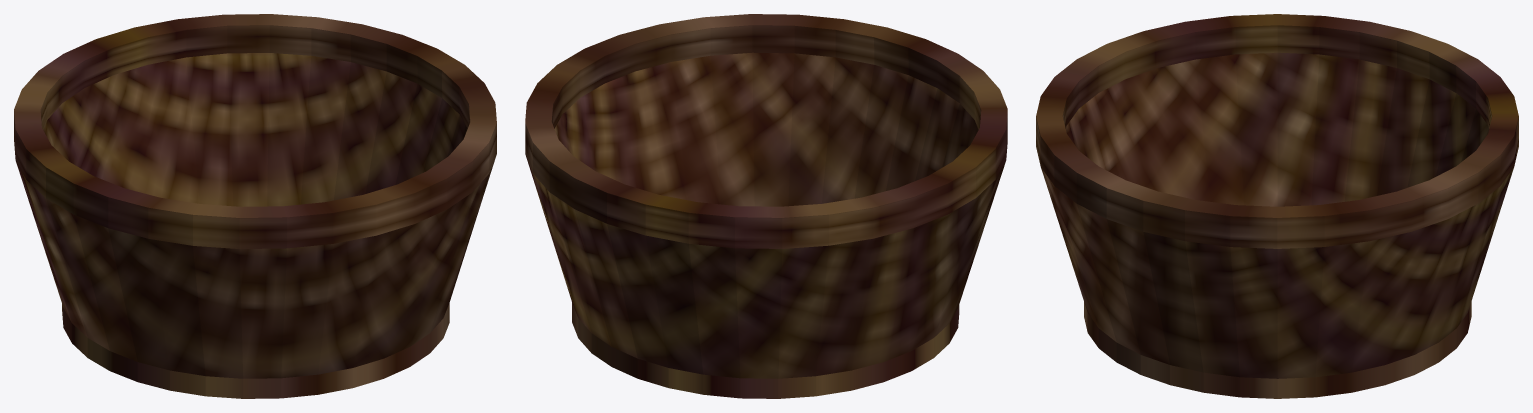
The model's file is basket.fbx.
3 renders of one model, left to right at view 1: azimuth 30°, elevation 25°; view 2: azimuth 150°, elevation 25°; view 3: azimuth 270°, elevation 25°, orthographic.
Visible parts, largest first — view 1: Cylinder; view 2: Cylinder; view 3: Cylinder.
Boxes of the visible parts, <box> form: Cylinder: <box>14,14,496,398</box>; Cylinder: <box>525,14,1007,398</box>; Cylinder: <box>1036,14,1518,398</box>.
Size of the model in its own units: 200 by 91.79 by 200.
